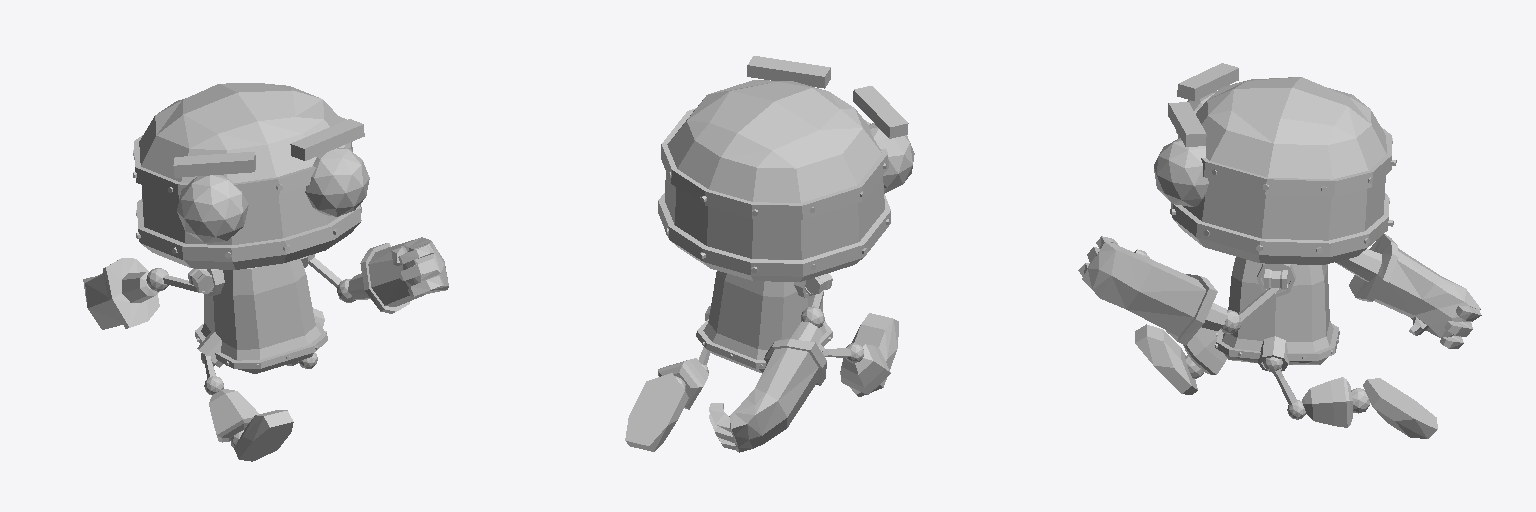
The model's file is Robot_000014.obj.
3 views of the same model, side by side, from view 1: azimuth 30°, elevation 25°; view 2: azimuth 150°, elevation 25°; view 3: azimuth 270°, elevation 25° (orthographic).
Visible parts, largest first — view 1: Head_Cylinder, Torso_Cube.001, Hand.L_Cylinder.022, Hand.R_Cylinder.015, Foot.R_Cylinder.017, LowerLeg.R_Cylinder.018, Arm.R_Cylinder.013, Arm.L_Cylinder.010; view 2: Head_Cylinder, Torso_Cube.001, Hand.R_Cylinder.015, Foot.L_Cylinder.014, Foot.R_Cylinder.017, LowerLeg.R_Cylinder.018, LowerLeg.L_Cylinder.012; view 3: Head_Cylinder, Torso_Cube.001, Hand.L_Cylinder.022, Hand.R_Cylinder.015, Foot.L_Cylinder.014, LowerLeg.L_Cylinder.012, Foot.R_Cylinder.017, LowerLeg.R_Cylinder.018, Arm.L_Cylinder.010, Leg.L_Cylinder.011.
Boxes of the visible parts, box(x1,y1,x2,y2) form: Head_Cylinder: box(133, 83, 369, 269); Torso_Cube.001: box(195, 256, 327, 373); Hand.L_Cylinder.022: box(348, 237, 448, 313); Hand.R_Cylinder.015: box(83, 258, 159, 329); Foot.R_Cylinder.017: box(234, 410, 293, 461); LowerLeg.R_Cylinder.018: box(209, 389, 258, 447); Arm.R_Cylinder.013: box(146, 268, 198, 292); Arm.L_Cylinder.010: box(308, 257, 355, 302); Head_Cylinder: box(658, 56, 914, 281); Torso_Cube.001: box(696, 271, 832, 373); Hand.R_Cylinder.015: box(709, 321, 826, 452); Foot.L_Cylinder.014: box(625, 373, 688, 451); Foot.R_Cylinder.017: box(840, 313, 898, 396); LowerLeg.R_Cylinder.018: box(841, 344, 890, 394); LowerLeg.L_Cylinder.012: box(658, 358, 708, 409); Head_Cylinder: box(1154, 63, 1396, 264); Torso_Cube.001: box(1215, 257, 1339, 371); Hand.L_Cylinder.022: box(1078, 236, 1227, 345); Hand.R_Cylinder.015: box(1335, 234, 1481, 348); Foot.L_Cylinder.014: box(1363, 378, 1437, 438); LowerLeg.L_Cylinder.012: box(1302, 377, 1369, 427); Foot.R_Cylinder.017: box(1135, 324, 1197, 394); LowerLeg.R_Cylinder.018: box(1183, 327, 1227, 378); Arm.L_Cylinder.010: box(1221, 288, 1278, 333); Leg.L_Cylinder.011: box(1272, 369, 1305, 419).
Size of the model in its own units: 2.84 by 3.94 by 4.44.